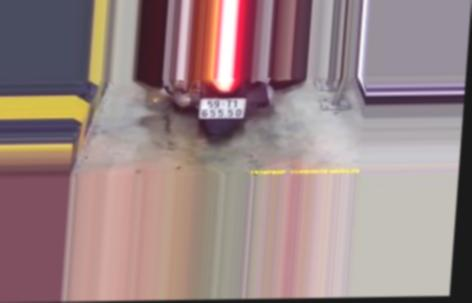License_Plate: (196, 96, 247, 122)
